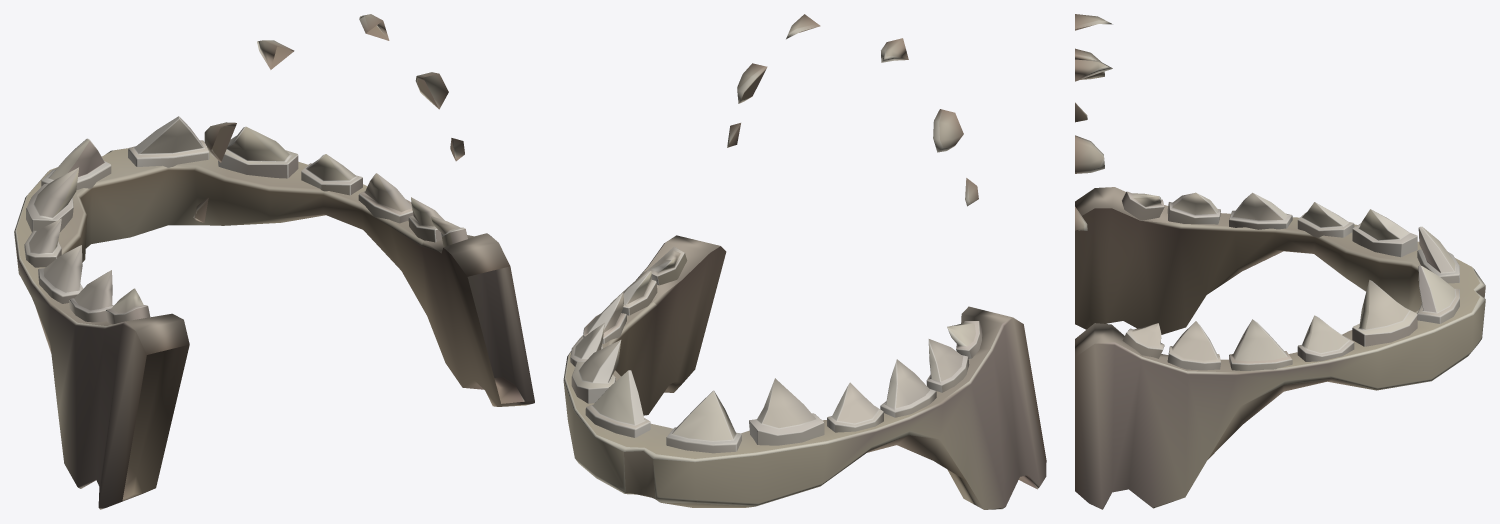
File: SharkArch.fbx
The picture shows the model from 3 angles, left to right: view 1: azimuth 30°, elevation 25°; view 2: azimuth 150°, elevation 25°; view 3: azimuth 270°, elevation 25°; orthographic projection. The views are drawn at different scales.
Parts seen in each view (by area): view 1: SharkArch; view 2: SharkArch; view 3: SharkArch.
Boxes of the visible parts, bbox=[...] form: SharkArch: bbox=[14, 14, 534, 509]; SharkArch: bbox=[563, 14, 1046, 509]; SharkArch: bbox=[1075, 14, 1485, 509].
Size of the model in its own units: 98.29 by 95.97 by 92.71.
